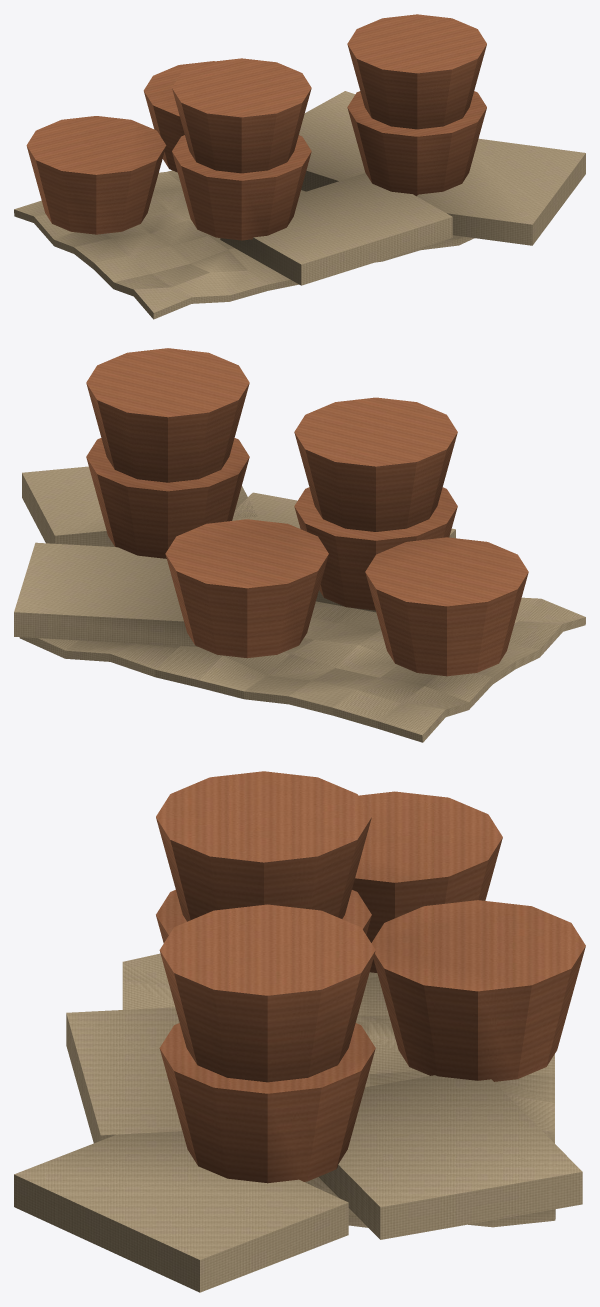
The model's file is mat_basket.glb.
The picture shows the model from 3 angles, top to bottom: view 1: azimuth 30°, elevation 25°; view 2: azimuth 150°, elevation 25°; view 3: azimuth 270°, elevation 25°; orthographic projection. The views are drawn at different scales.
Visible parts, largest first — view 1: mat_basket; view 2: mat_basket; view 3: mat_basket.
Boxes of the visible parts, x1,y1,x2,y2 form: mat_basket: [14, 14, 585, 319]; mat_basket: [14, 348, 585, 742]; mat_basket: [14, 771, 585, 1292].
Size of the model in its own units: 1.21 by 0.3975 by 0.7938.
Materials: 2 (2 with a texture image).
